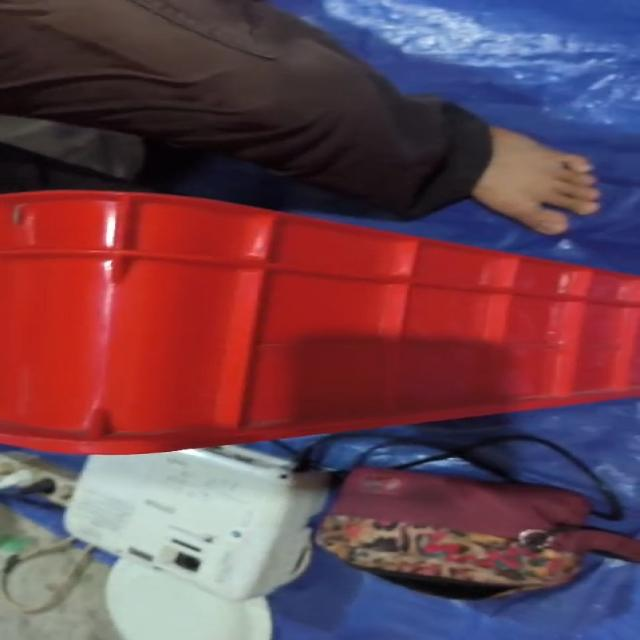red plastic box: (0, 189, 640, 456)
